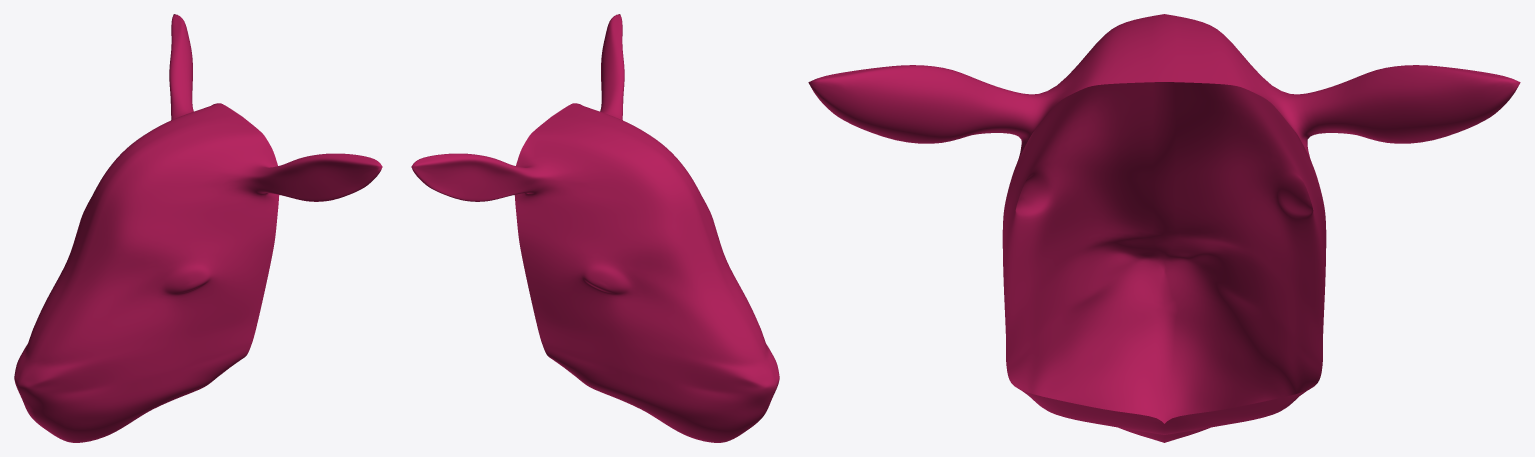
Rendered from brebismasque.fbx.
3 renders of one model, left to right at view 1: azimuth 30°, elevation 25°; view 2: azimuth 150°, elevation 25°; view 3: azimuth 270°, elevation 25°, orthographic. The views are drawn at different scales.
Visible parts, largest first — view 1: Brebis_fini; view 2: Brebis_fini; view 3: Brebis_fini.
Part boxes in pixels (x1,y1,x2,y2): Brebis_fini: (14, 14, 382, 442); Brebis_fini: (411, 14, 779, 442); Brebis_fini: (808, 14, 1520, 442).
Bounding box in the file's own units: 3.39 × 3.77 × 4.68.
